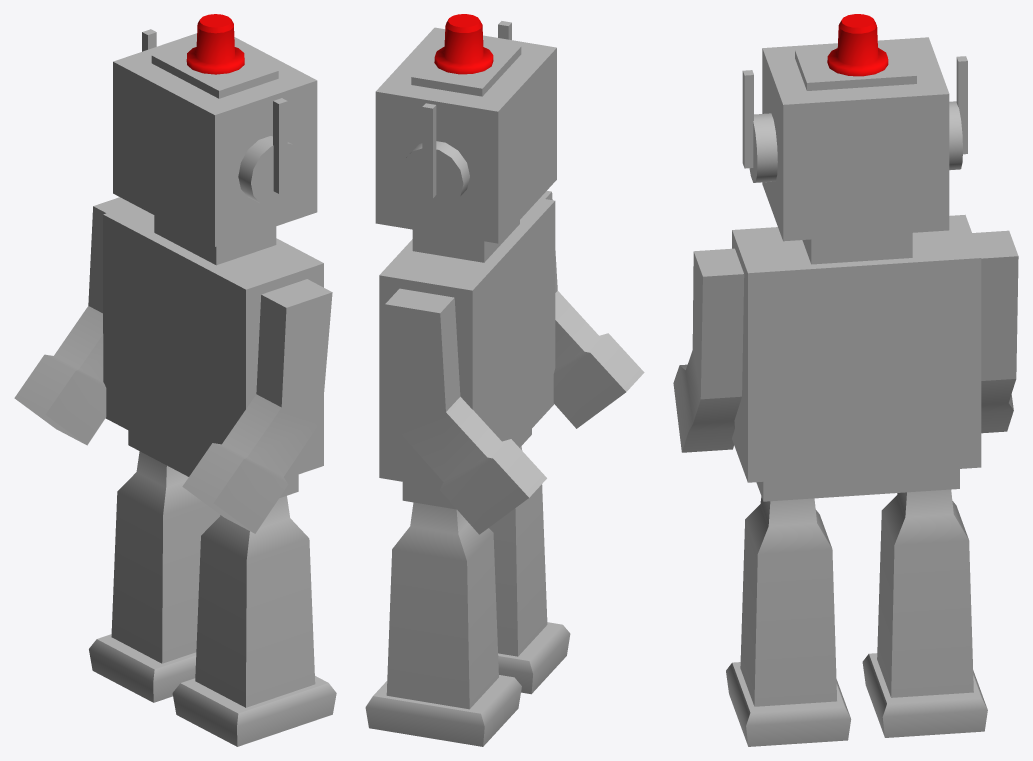
File: robot.fbx
3 views of the same model, side by side, from view 1: azimuth 30°, elevation 25°; view 2: azimuth 150°, elevation 25°; view 3: azimuth 270°, elevation 25° (orthographic). The views are drawn at different scales.
Visible parts, largest first — view 1: RobotBody, HeadLight; view 2: RobotBody, HeadLight; view 3: RobotBody, HeadLight.
Part boxes in pixels (<box>): RobotBody: <box>14,29,336,746</box>; HeadLight: <box>186,14,244,74</box>; RobotBody: <box>365,21,644,746</box>; HeadLight: <box>434,14,493,74</box>; RobotBody: <box>673,37,1018,746</box>; HeadLight: <box>827,14,888,76</box>.
Bounding box in the file's own units: 208 × 665 × 300.
2 materials, 2 textured.
